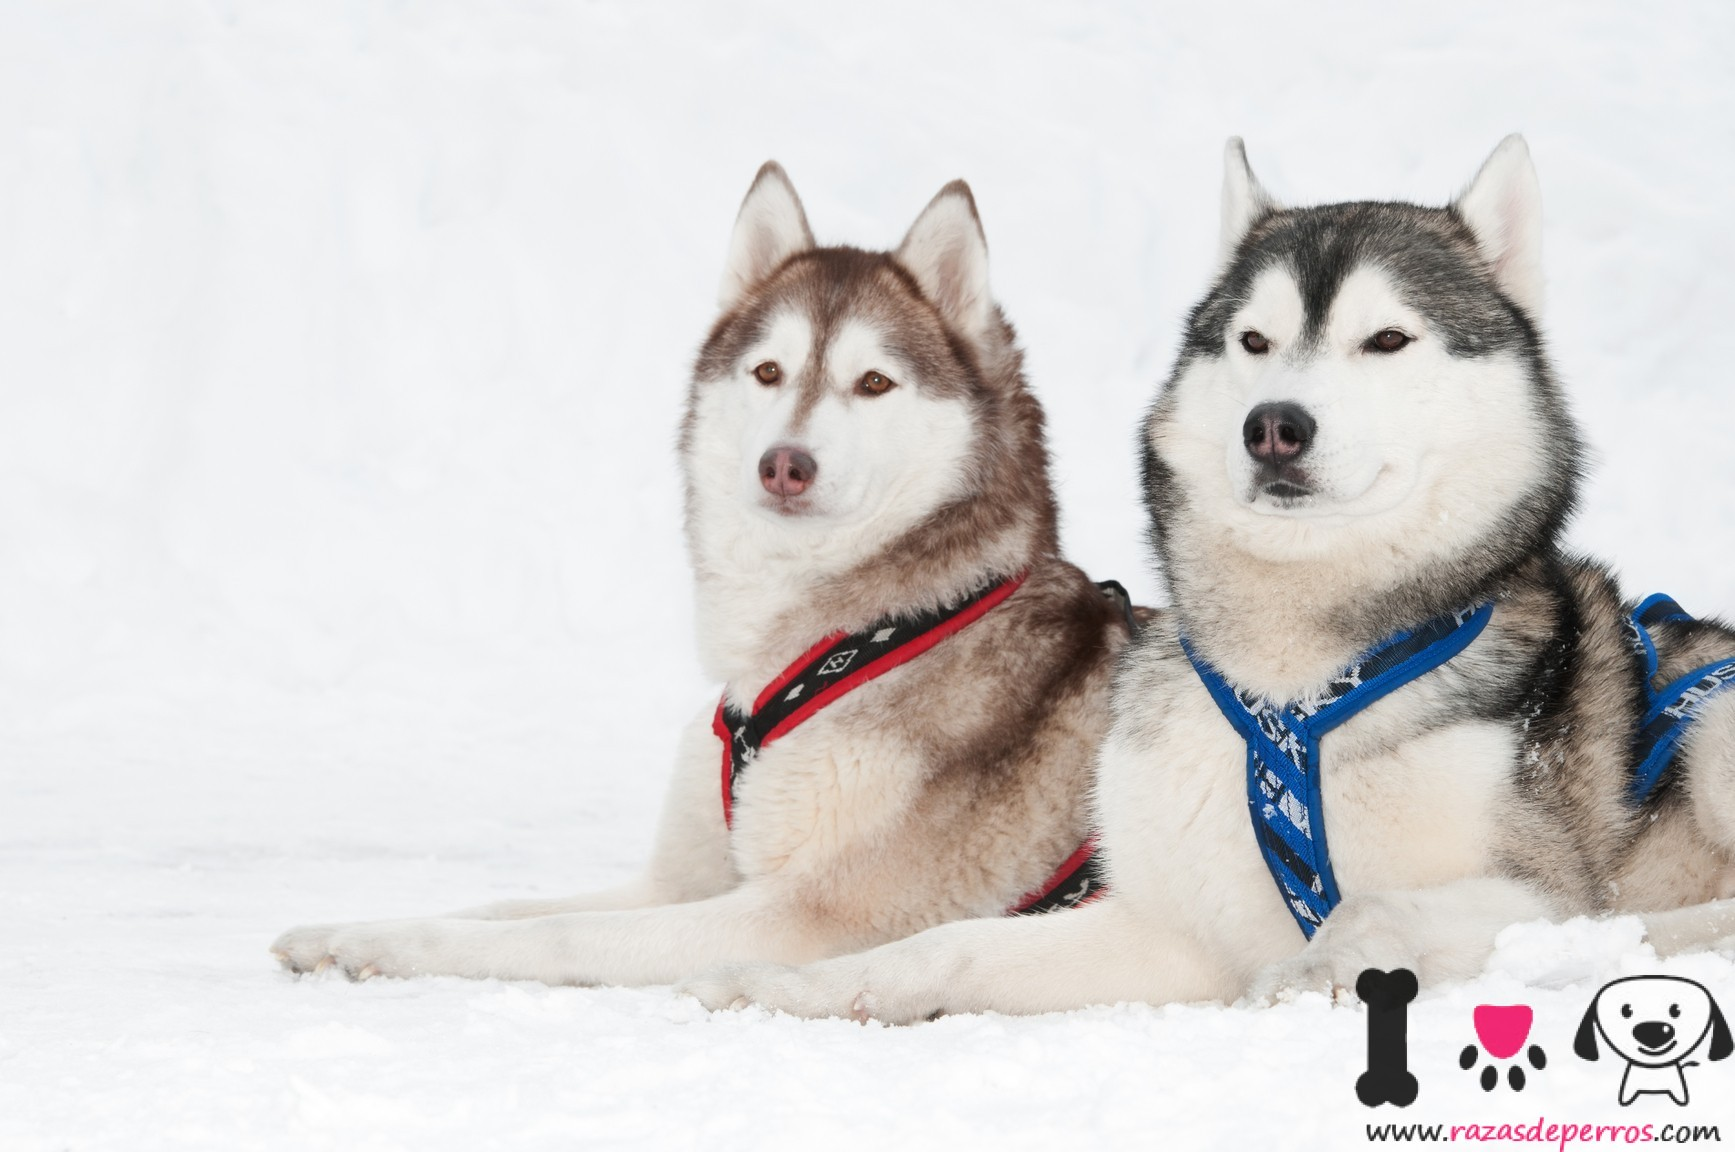husky: (1086, 120, 1735, 964), (605, 138, 1091, 927)
